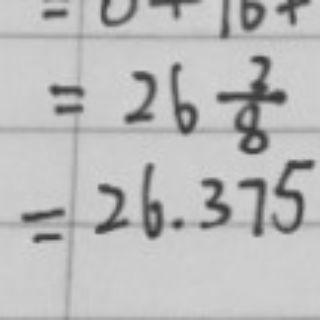.: (170, 216, 186, 232)
2: (121, 65, 163, 124), (94, 179, 130, 235), (247, 51, 274, 91)
3: (198, 174, 233, 232)
5: (271, 158, 320, 237)
6: (168, 58, 201, 137), (139, 159, 165, 241)
7: (237, 174, 267, 238)
8: (231, 102, 272, 156)
